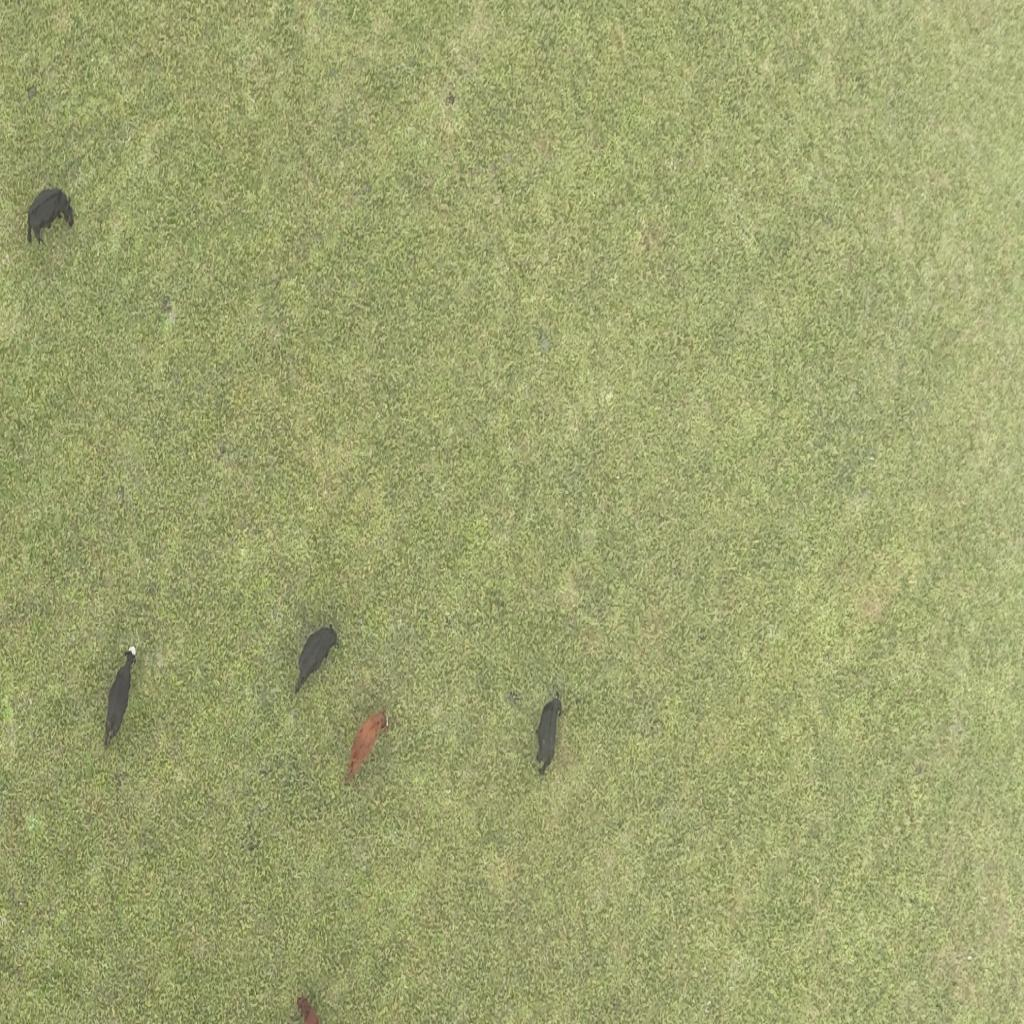cow: (100, 644, 140, 752), (344, 701, 393, 788), (292, 618, 340, 696), (25, 181, 78, 251), (532, 688, 566, 780)
